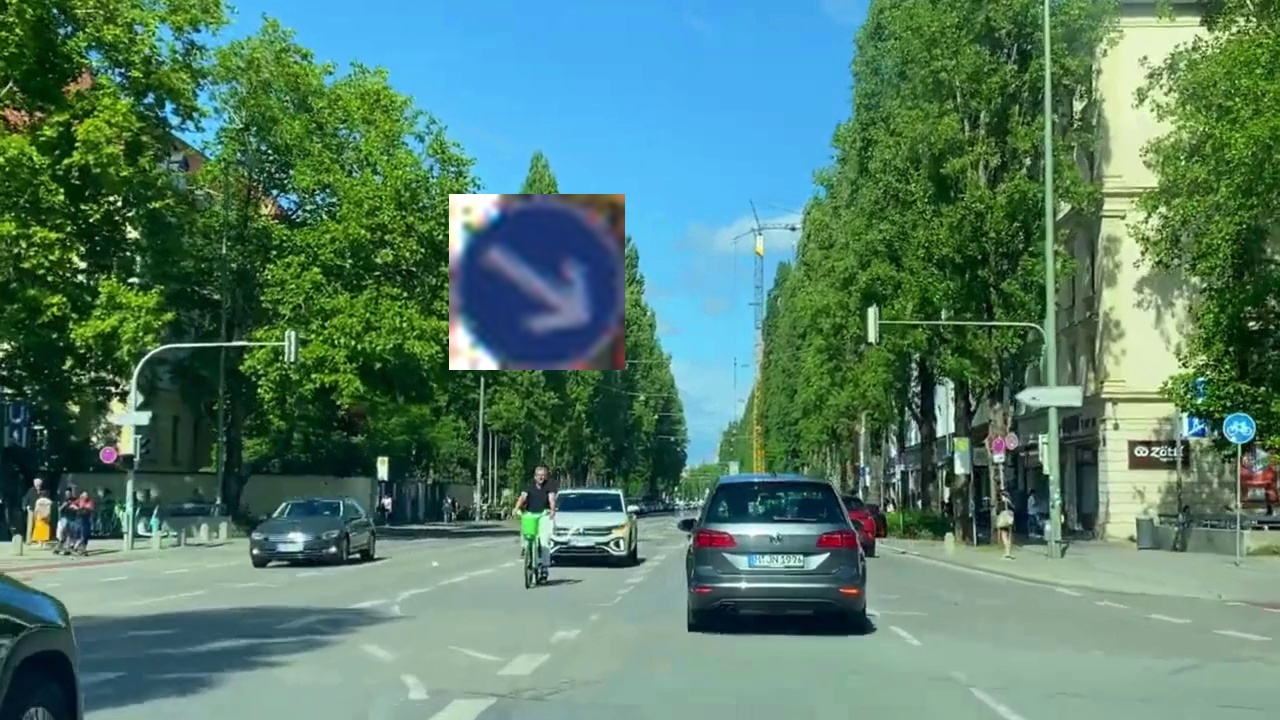Keep right: (449, 194, 625, 370)
